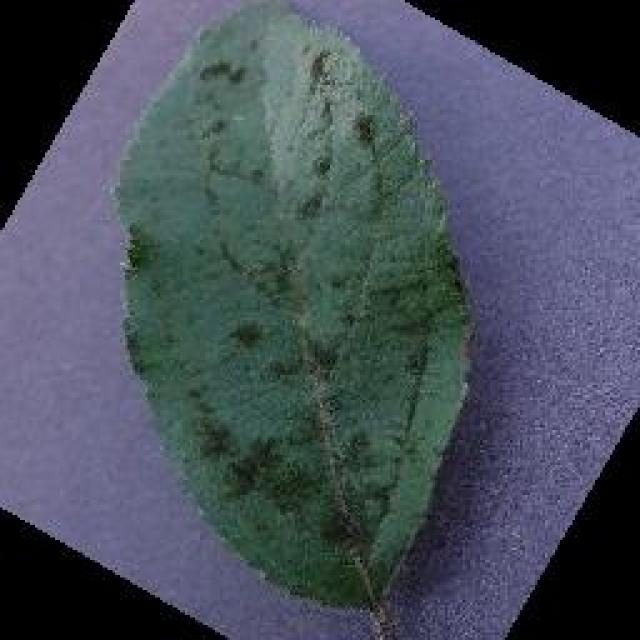apple scab disease: (110, 0, 477, 612)
